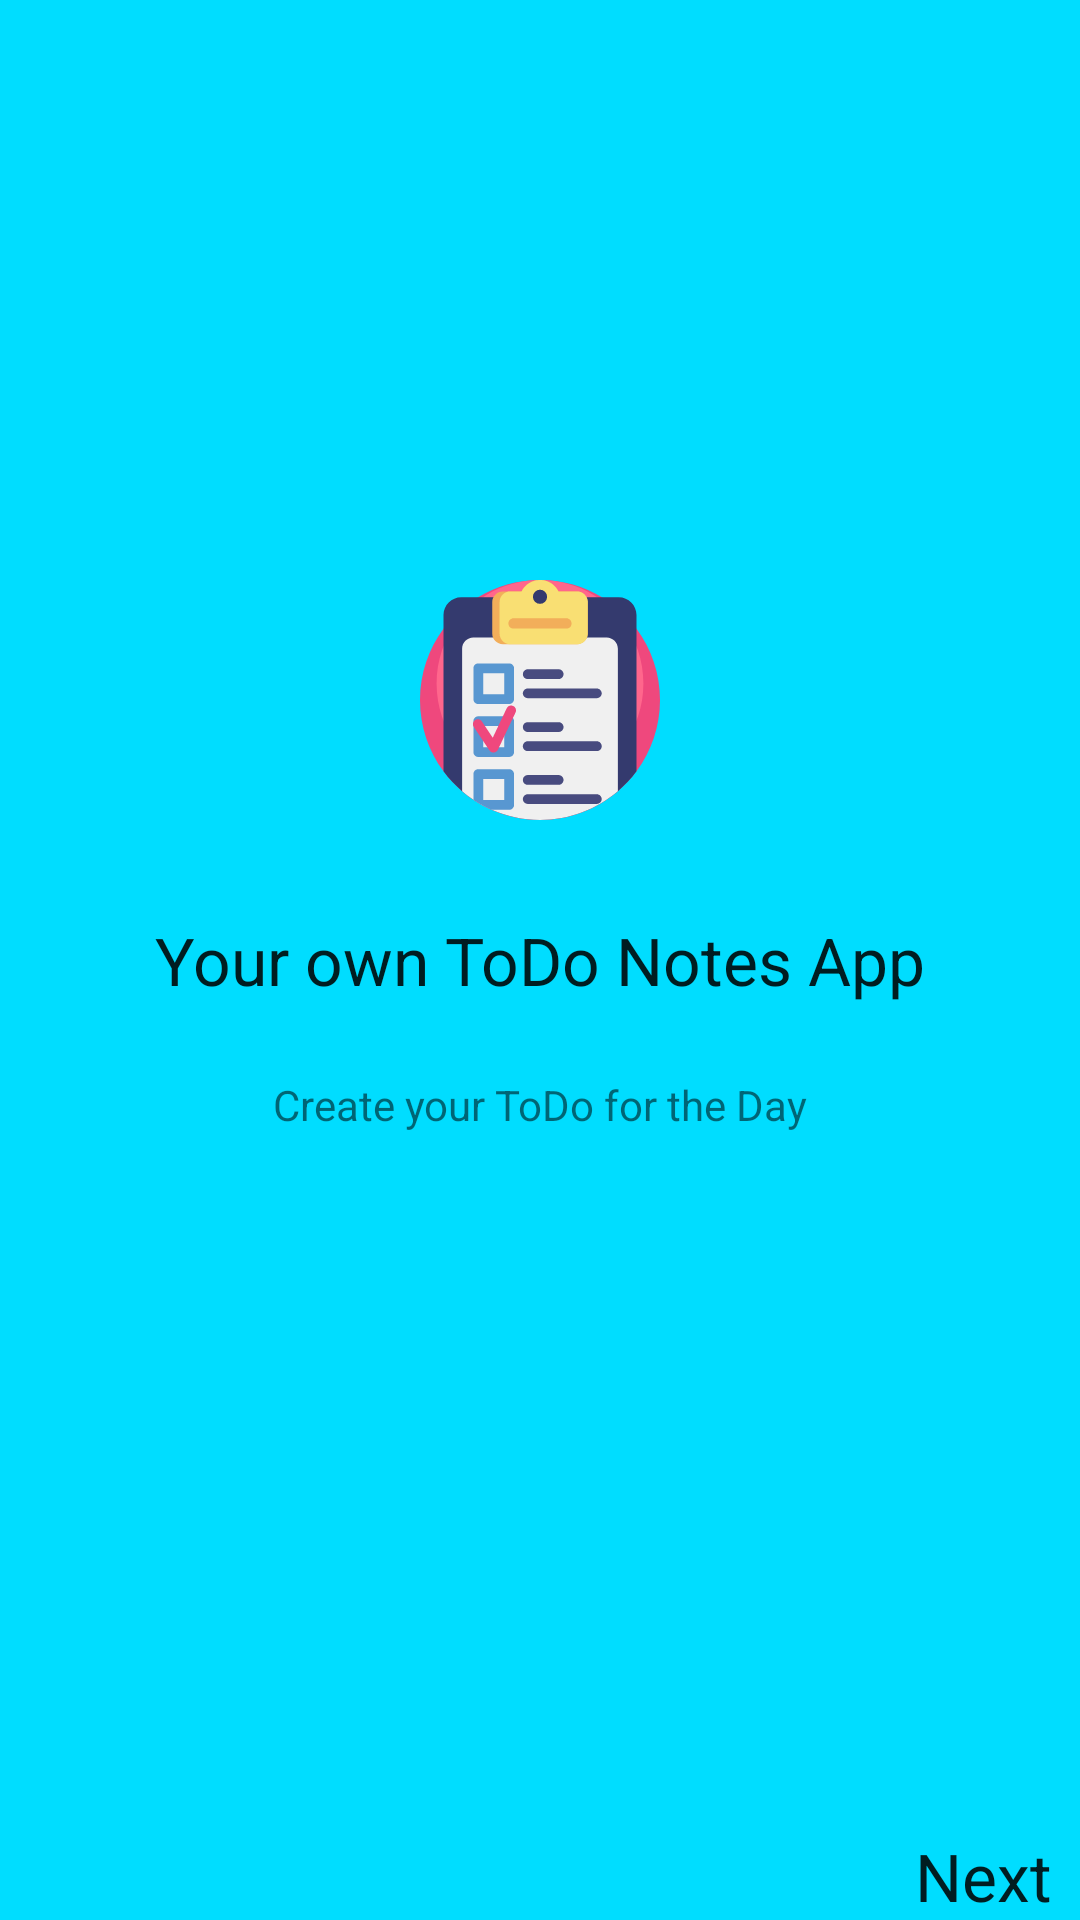

Icons on this 1080 x 1920 Android screen, each with its box as (x1, y1, x2, y2):
checklist: (420, 580, 660, 820)
